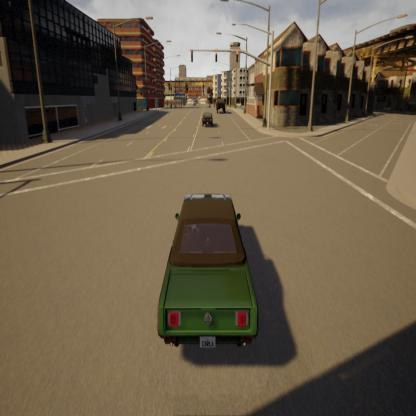Cars: (150, 164, 266, 366), (212, 87, 230, 117), (202, 108, 216, 140)
